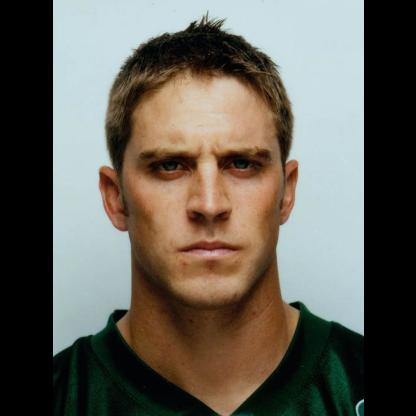Male: (96, 67, 296, 307)
